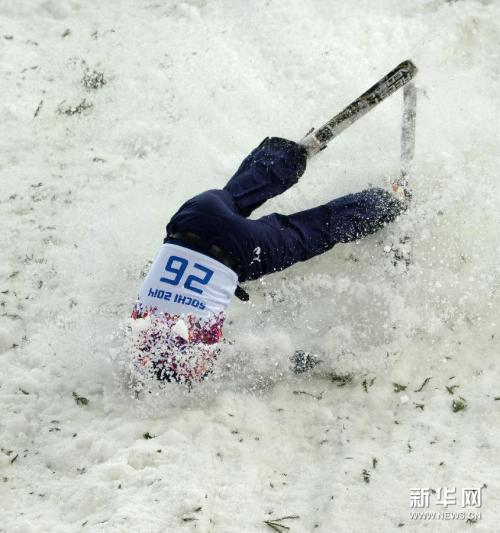fall: (120, 54, 433, 416)
